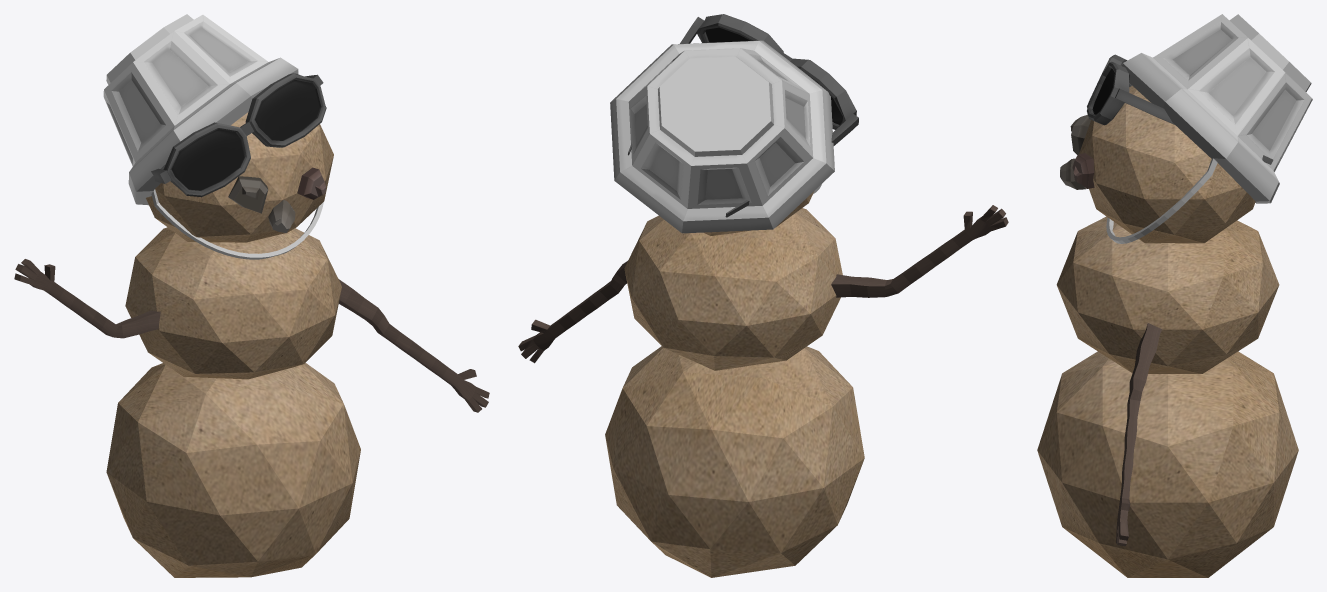
File: sandhuman.FBX
3 views of the same model, side by side, from view 1: azimuth 30°, elevation 25°; view 2: azimuth 150°, elevation 25°; view 3: azimuth 270°, elevation 25° (orthographic). The views are drawn at different scales.
Visible parts, largest first — view 1: GeoSphere001, GeoSphere004, Box004, GeoSphere005, Cylinder003, Box002, Box001, Cylinder004, Cylinder005, Cylinder006; view 2: GeoSphere001, Box004, GeoSphere004, Cylinder003, Box001, Box002; view 3: GeoSphere001, GeoSphere004, Box004, GeoSphere005, Box002, Cylinder003, Cylinder005, Cylinder004, Cylinder006.
Boxes of the visible parts, left/top/right/bottom form: GeoSphere001: left=106, top=363, right=360, bottom=577; GeoSphere004: left=125, top=227, right=341, bottom=379; Box004: left=103, top=14, right=323, bottom=259; GeoSphere005: left=146, top=112, right=333, bottom=242; Cylinder003: left=151, top=73, right=326, bottom=197; Box002: left=338, top=279, right=489, bottom=412; Box001: left=14, top=259, right=160, bottom=338; Cylinder004: left=228, top=176, right=267, bottom=213; Cylinder005: left=297, top=167, right=325, bottom=199; Cylinder006: left=268, top=200, right=295, bottom=232; GeoSphere001: left=605, top=346, right=864, bottom=577; Box004: left=610, top=40, right=834, bottom=233; GeoSphere004: left=624, top=208, right=842, bottom=370; Cylinder003: left=628, top=14, right=858, bottom=217; Box001: left=831, top=205, right=1008, bottom=297; Box002: left=518, top=261, right=627, bottom=363; GeoSphere001: left=1037, top=351, right=1298, bottom=577; GeoSphere004: left=1056, top=216, right=1279, bottom=373; Box004: left=1106, top=14, right=1312, bottom=243; GeoSphere005: left=1079, top=85, right=1255, bottom=243; Box002: left=1116, top=323, right=1161, bottom=546; Cylinder003: left=1087, top=54, right=1273, bottom=164; Cylinder005: left=1072, top=153, right=1094, bottom=188; Cylinder004: left=1070, top=114, right=1090, bottom=154; Cylinder006: left=1060, top=158, right=1086, bottom=189.
Bounding box in the file's own units: 99.04 × 104 × 49.51.
